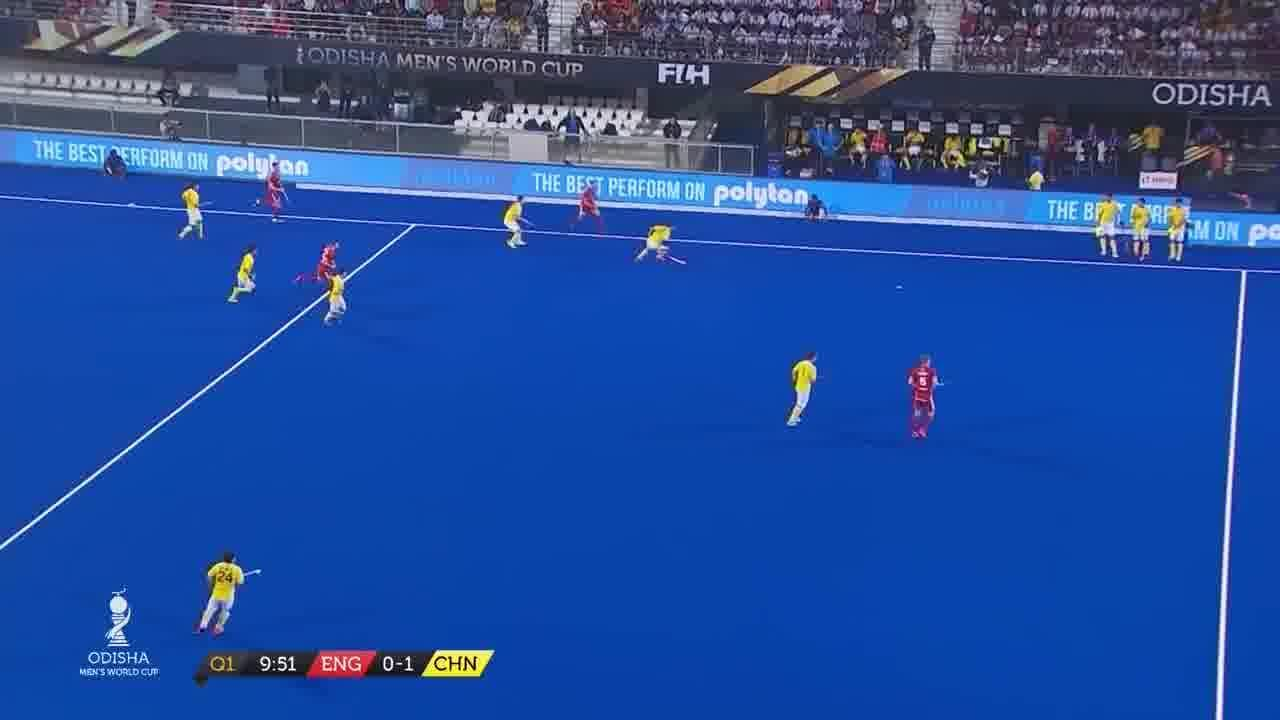ball: (892, 282, 908, 296)
